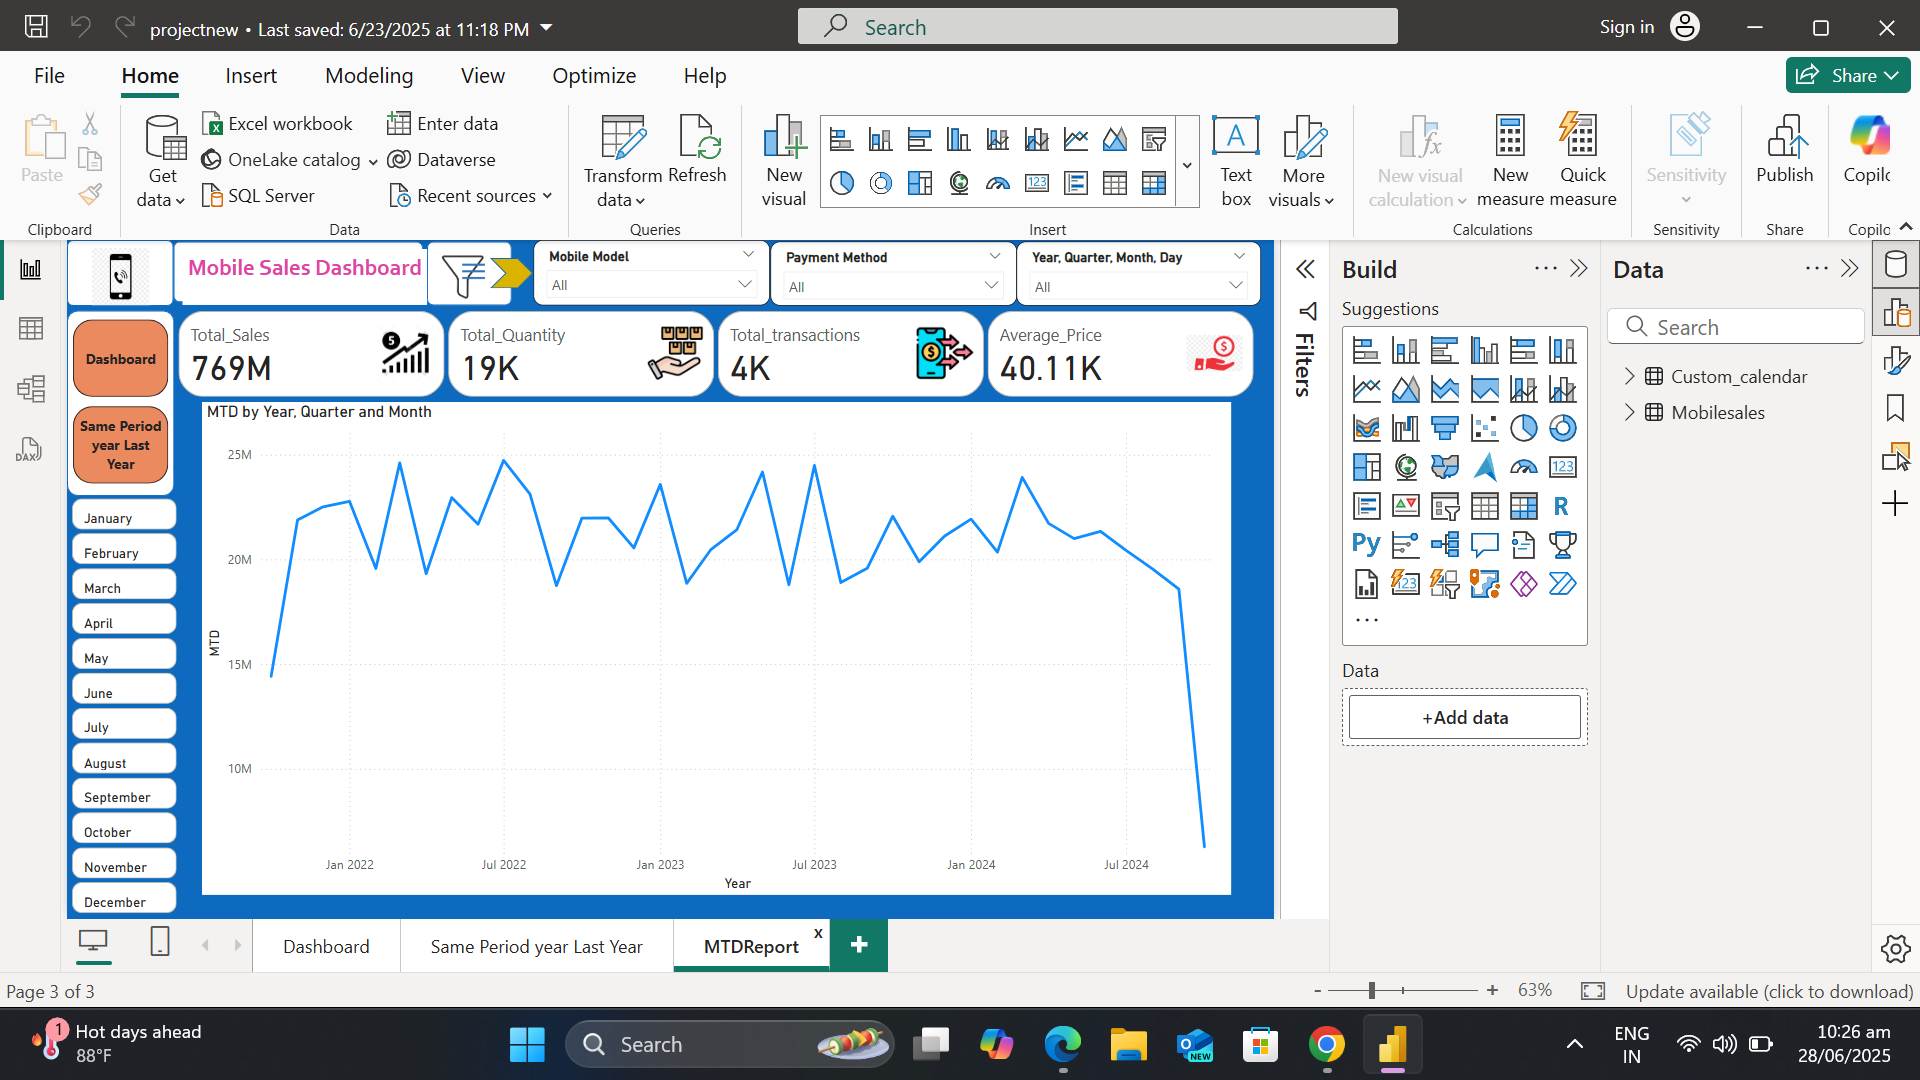

Layout of this report page (visuals, bound fields, positions):
{"tool":"powerbi","page":{"name":"MTDReport","canvas":[1280,720],"ordinal":2},"visuals":[{"type":"shape","box":[0,0,112.9,70],"z":0},{"type":"shape","box":[0,74.6,113.6,196.6],"z":1000},{"type":"cardVisual","fields":{"Data":["Mobilesales.Total_Sales","Mobilesales.Total_Quantity","Mobilesales.Total_transactions","Mobilesales.Average_Price"]},"box":[113.6,69.5,1152.5,101.7],"z":2000},{"type":"slicer","fields":{"Values":["Mobilesales.Mobile Model"]},"box":[494.9,0,250.8,69.5],"z":3000},{"type":"slicer","fields":{"Values":["Mobilesales.Payment Method"]},"box":[745.8,1.7,261,67.8],"z":4000},{"type":"slicer","fields":{"Values":["Custom_calendar.Date.Variation.Date Hierarchy.Year","Custom_calendar.Date.Variation.Date Hierarchy.Quarter","Custom_calendar.Date.Variation.Date Hierarchy.Month","Custom_calendar.Date.Variation.Date Hierarchy.Day"]},"box":[1006.8,1.7,259.3,67.8],"z":5000},{"type":"shape","box":[381.4,1.7,89.8,67.8],"z":6000},{"type":"shape","box":[449.2,18.6,45.8,32.2],"z":7000},{"type":"shape","box":[113.6,1.7,264.4,64.4],"z":8000},{"type":"textbox","box":[122,10.2,259.3,59.3],"z":9000},{"type":"image","box":[15.3,3.4,81.4,71.2],"z":10000},{"type":"image","box":[389.8,8.5,61,62.7],"z":11000},{"type":"lineChart","fields":{"Category":["Custom_calendar.Date.Variation.Date Hierarchy.Year","Custom_calendar.Date.Variation.Date Hierarchy.Quarter","Custom_calendar.Date.Variation.Date Hierarchy.Month","Custom_calendar.Date.Variation.Date Hierarchy.Day"],"Y":["Mobilesales.MTD"]},"box":[143.8,172.2,1091.6,522.5],"z":12000},{"type":"advancedSlicerVisual","fields":{"Values":["Custom_calendar.Date.Variation.Date Hierarchy.Month"]},"box":[0,269.4,121.5,451.6],"z":13000},{"type":"pageNavigator","box":[6.1,85.1,101.3,174.2],"z":13001}]}

Visuals, with their boxes on the page's 1280x720 design canvas (x1, y1, x2, y2). These are canvas units, not pixel positions in the 1920x1080 screenshot, which may show the page scaled, cropped or inside an application window:
shape: {"x1": 0, "y1": 0, "x2": 113, "y2": 70}
shape: {"x1": 0, "y1": 75, "x2": 114, "y2": 271}
cardVisual - Mobilesales.Total_Sales x Mobilesales.Total_Quantity: {"x1": 114, "y1": 70, "x2": 1266, "y2": 171}
slicer - Mobilesales.Mobile Model: {"x1": 495, "y1": 0, "x2": 746, "y2": 70}
slicer - Mobilesales.Payment Method: {"x1": 746, "y1": 2, "x2": 1007, "y2": 70}
slicer - Custom_calendar.Date.Variation.Date Hierarchy.Year x Custom_calendar.Date.Variation.Date Hierarchy.Quarter: {"x1": 1007, "y1": 2, "x2": 1266, "y2": 70}
shape: {"x1": 381, "y1": 2, "x2": 471, "y2": 70}
shape: {"x1": 449, "y1": 19, "x2": 495, "y2": 51}
shape: {"x1": 114, "y1": 2, "x2": 378, "y2": 66}
textbox: {"x1": 122, "y1": 10, "x2": 381, "y2": 70}
image: {"x1": 15, "y1": 3, "x2": 97, "y2": 75}
image: {"x1": 390, "y1": 8, "x2": 451, "y2": 71}
lineChart - Custom_calendar.Date.Variation.Date Hierarchy.Year x Custom_calendar.Date.Variation.Date Hierarchy.Quarter: {"x1": 144, "y1": 172, "x2": 1235, "y2": 695}
advancedSlicerVisual - Custom_calendar.Date.Variation.Date Hierarchy.Month: {"x1": 0, "y1": 269, "x2": 122, "y2": 721}
pageNavigator: {"x1": 6, "y1": 85, "x2": 107, "y2": 259}
